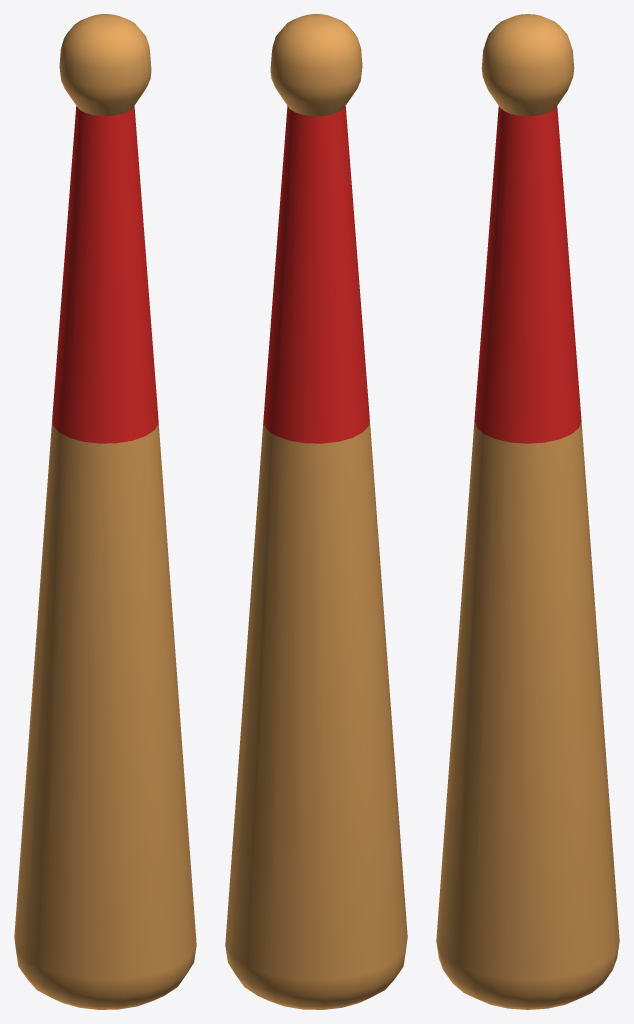
Rendered from beyzbolSopa.fbx.
The picture shows the model from 3 angles, left to right: view 1: azimuth 30°, elevation 25°; view 2: azimuth 150°, elevation 25°; view 3: azimuth 270°, elevation 25°; orthographic projection.
Parts seen in each view (by area): view 1: beyzbolSopa; view 2: beyzbolSopa; view 3: beyzbolSopa.
Part boxes in pixels (x1,y1,x2,y2): beyzbolSopa: (14,14,196,1009); beyzbolSopa: (225,14,407,1009); beyzbolSopa: (436,14,619,1009).
Bounding box in the file's own units: 68.33 × 397 × 68.33.
